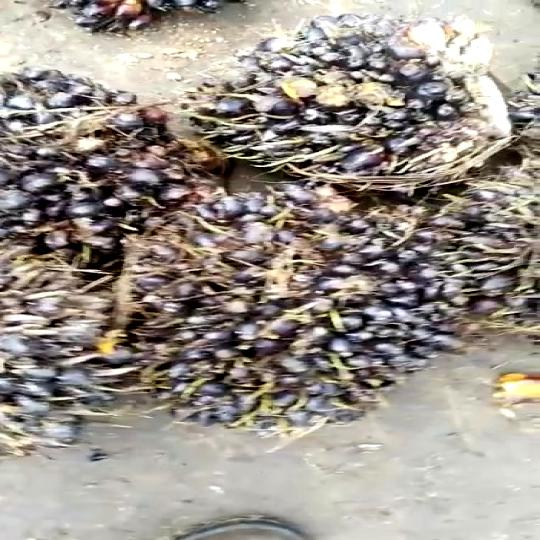mentah: (113, 188, 443, 421), (185, 19, 540, 190), (0, 57, 199, 262)
